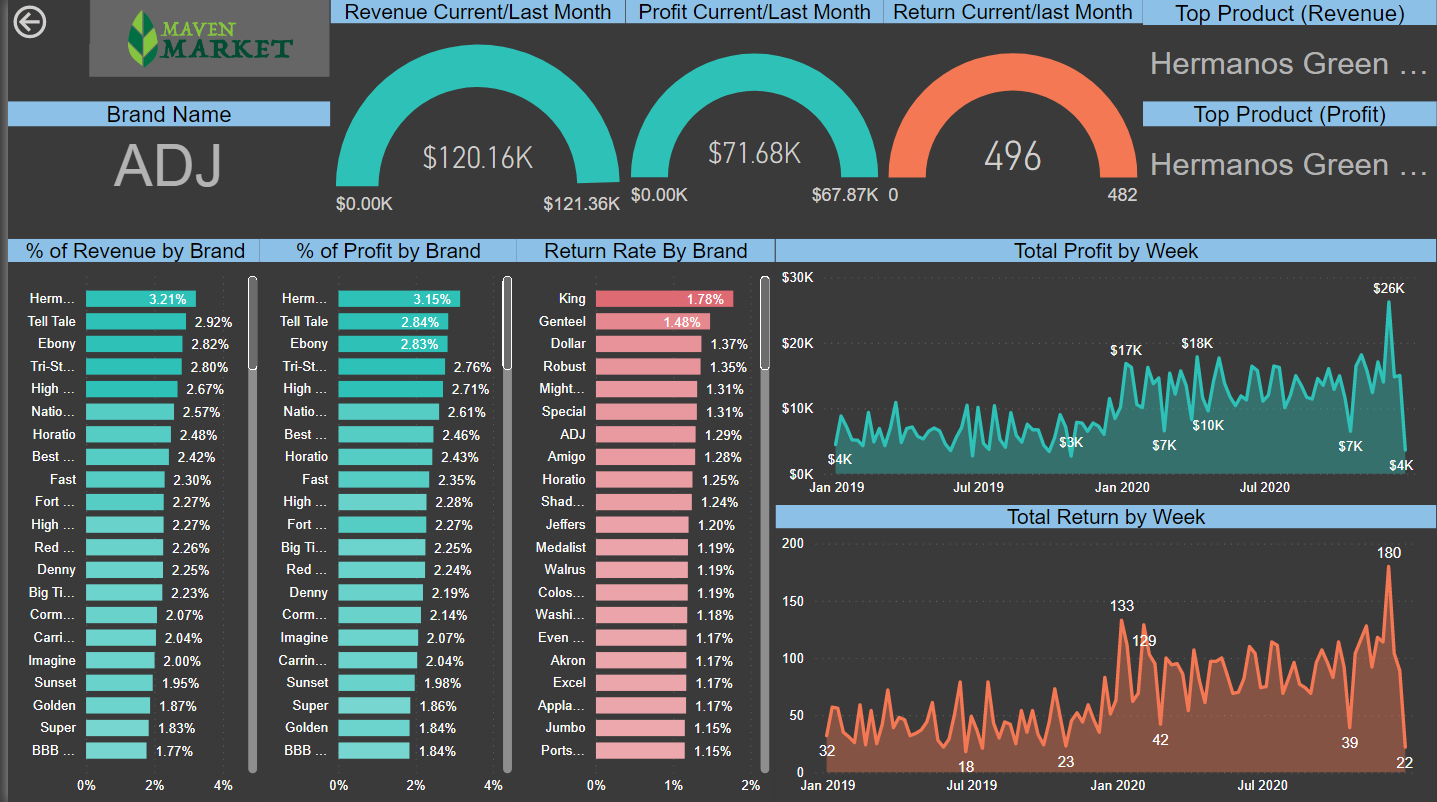

The dashboard page shown, as its layout file describes it:
{"tool":"powerbi","page":{"name":"Product Level","canvas":[1280,720],"ordinal":1},"visuals":[{"type":"gauge","title":"Revenue Current/Last Month","fields":{"Y":["SalesData.Total Revenue"],"MaxValue":["SalesData.Revenue Target"]},"box":[288.6,0,264.1,214.1],"z":0},{"type":"gauge","title":"Return Current/last Month","fields":{"Y":["ReturnData.Total Return"],"MaxValue":["ReturnData.Last Month return"]},"box":[784.3,0,232.7,214.1],"z":1000},{"type":"gauge","title":"Profit Current/Last Month","fields":{"Y":["SalesData.Total Profit"],"MaxValue":["SalesData.Last Month Profit"]},"box":[552.7,0,231.6,214.1],"z":2000},{"type":"image","box":[73.3,0,215.3,68.7],"z":3000},{"type":"card","title":"Brand Name","fields":{"Values":["Min(ProductLookup.product_brand)"]},"box":[0,90.8,288.6,84.9],"z":4000},{"type":"actionButton","box":[0,0,73.3,39.6],"z":5000},{"type":"card","title":"Top Product (Revenue)","fields":{"Values":["Min(ProductLookup.product_name)"]},"box":[1017,0,263,90.8],"z":6000},{"type":"card","title":"Top Product (Profit)","fields":{"Values":["Min(ProductLookup.product_name)"]},"box":[1017,90.8,263,90.8],"z":7000},{"type":"clusteredBarChart","title":"% of Revenue by Brand","fields":{"Category":["ProductLookup.product_brand"],"Y":["SalesData.% Revenue Contribution"]},"box":[0,214.1,228.1,506.2],"z":8000},{"type":"areaChart","title":"Total Profit by Week","fields":{"Category":["CalendarLookup.Start of Week"],"Y":["SalesData.Total Profit"]},"box":[687.7,214.1,592.3,238.5],"z":9000},{"type":"areaChart","title":"Total Return by Week","fields":{"Category":["CalendarLookup.Start of Week"],"Y":["ReturnData.Total Return"]},"box":[687.7,452.7,592.3,267.6],"z":10000},{"type":"barChart","title":"% of Profit by Brand","fields":{"Category":["ProductLookup.product_brand"],"Y":["SalesData.% Profit Contribution"]},"box":[224.6,214.1,231.6,506.2],"z":11000},{"type":"barChart","title":"Return Rate By Brand","fields":{"Category":["ProductLookup.product_brand"],"Y":["ReturnData.Return Rate"]},"box":[456.1,214.1,231.6,506.2],"z":12000}]}

Visuals, with their boxes in screenshot pixels (x1, y1, x2, y2), scaled from the page's 1280x720 canvas onto the 1437x802 screenshot:
"Revenue Current/Last Month" gauge: box(324, 0, 620, 238)
"Return Current/last Month" gauge: box(880, 0, 1142, 238)
"Profit Current/Last Month" gauge: box(620, 0, 880, 238)
image: box(82, 0, 324, 77)
"Brand Name" card: box(0, 101, 324, 196)
actionButton: box(0, 0, 82, 44)
"Top Product (Revenue)" card: box(1142, 0, 1436, 101)
"Top Product (Profit)" card: box(1142, 101, 1436, 202)
"% of Revenue by Brand" clusteredBarChart: box(0, 238, 256, 801)
"Total Profit by Week" areaChart: box(772, 238, 1436, 504)
"Total Return by Week" areaChart: box(772, 504, 1436, 801)
"% of Profit by Brand" barChart: box(252, 238, 512, 801)
"Return Rate By Brand" barChart: box(512, 238, 772, 801)
